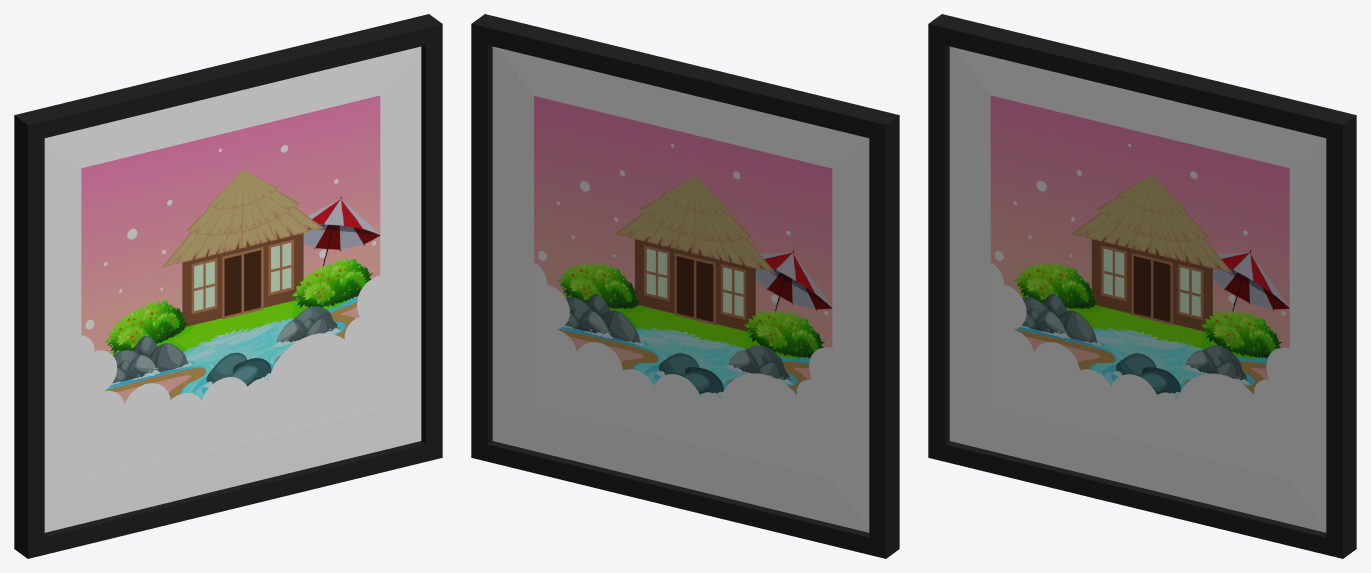
Rendered from Gallery.fbx.
The picture shows the model from 3 angles, left to right: view 1: azimuth 30°, elevation 25°; view 2: azimuth 150°, elevation 25°; view 3: azimuth 330°, elevation 25°; orthographic projection.
Visible parts, largest first — view 1: Cube.001; view 2: Cube.001; view 3: Cube.001.
Part boxes in pixels (left/top/right/bottom): Cube.001: left=14, top=14, right=442, bottom=558; Cube.001: left=471, top=14, right=899, bottom=558; Cube.001: left=928, top=14, right=1356, bottom=558.
Size of the model in its own units: 355 by 355 by 20.
